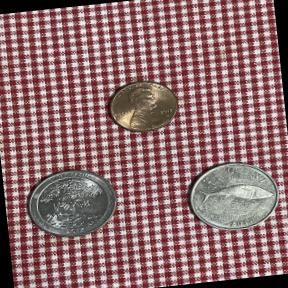coin: (178, 154, 287, 240), (18, 162, 124, 246), (102, 76, 186, 142)
